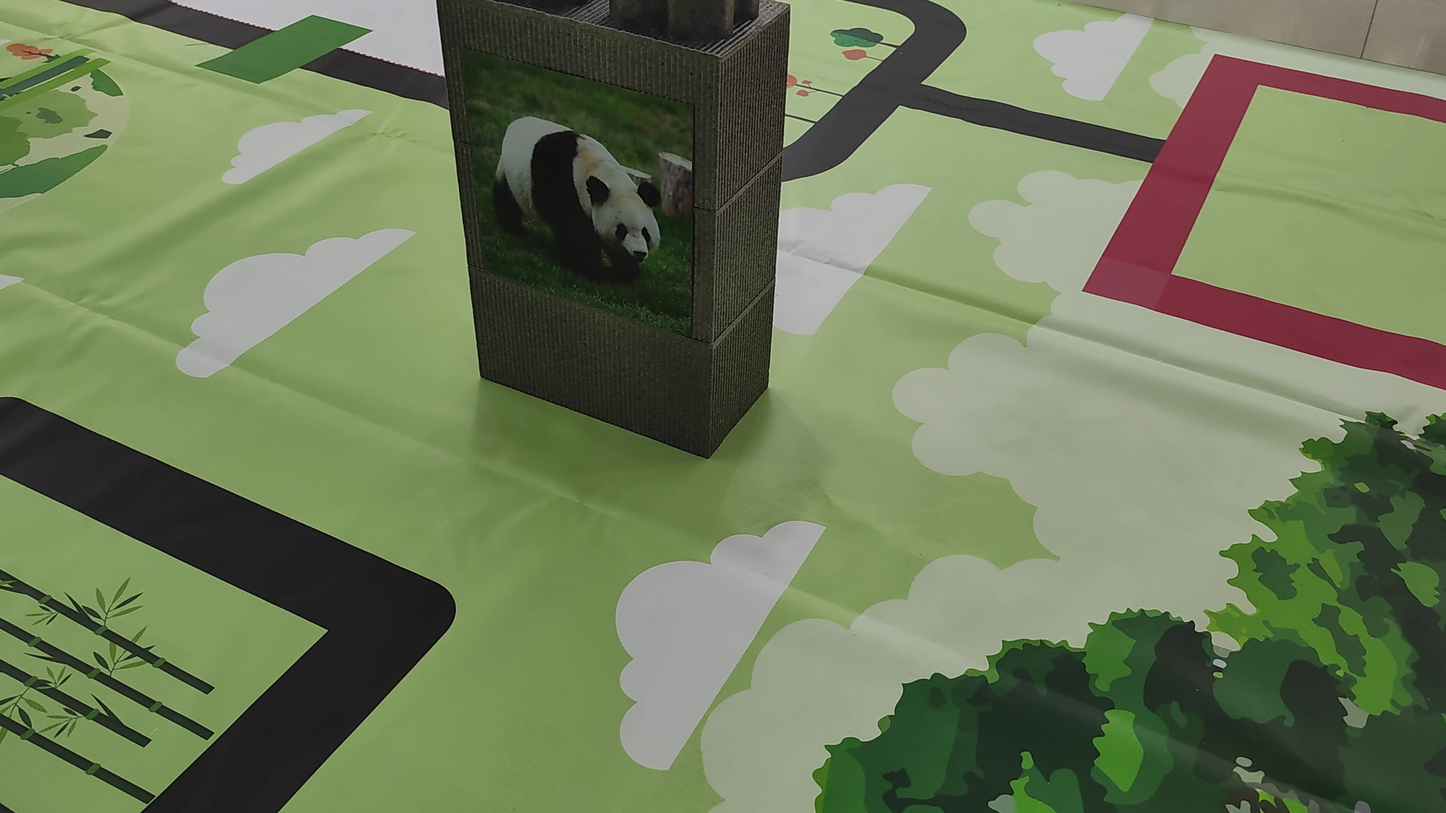panda: (472, 73, 681, 301)
